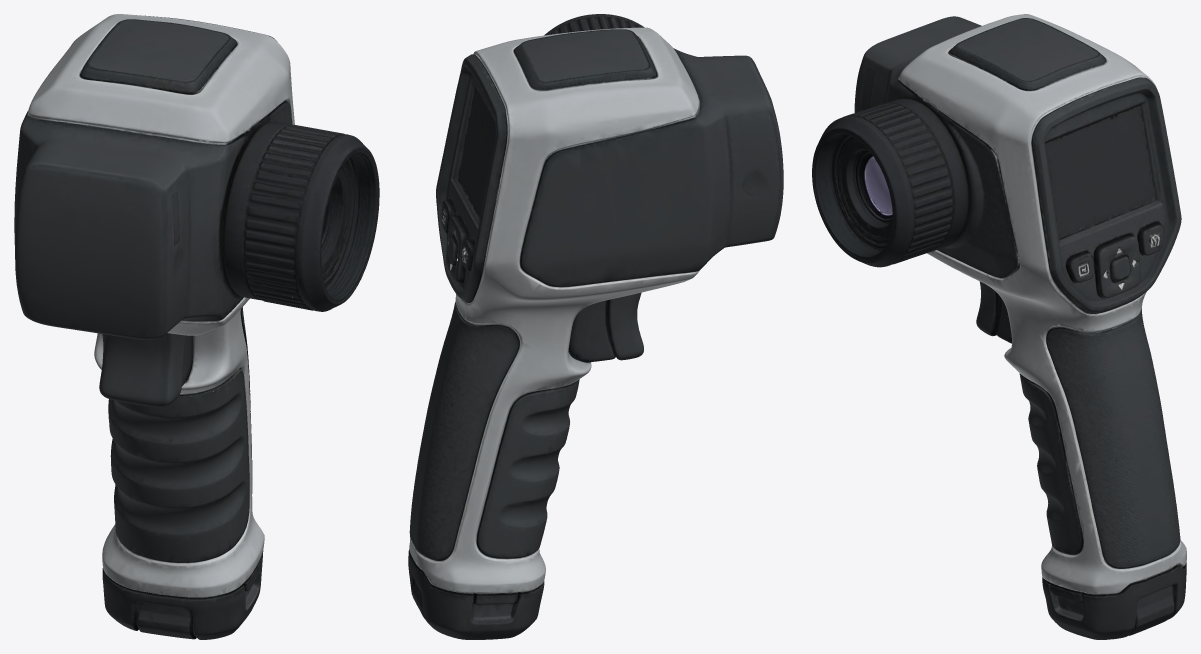
The model's file is thermal.glb.
3 views of the same model, side by side, from view 1: azimuth 30°, elevation 25°; view 2: azimuth 150°, elevation 25°; view 3: azimuth 270°, elevation 25° (orthographic). The views are drawn at different scales.
Parts seen in each view (by area): view 1: tripo_node_3118e020-3102-4611-8f45-a4cb7ac80d57; view 2: tripo_node_3118e020-3102-4611-8f45-a4cb7ac80d57; view 3: tripo_node_3118e020-3102-4611-8f45-a4cb7ac80d57.
Boxes of the visible parts, x1,y1,x2,y2 form: tripo_node_3118e020-3102-4611-8f45-a4cb7ac80d57: (14, 14, 379, 639); tripo_node_3118e020-3102-4611-8f45-a4cb7ac80d57: (408, 14, 783, 639); tripo_node_3118e020-3102-4611-8f45-a4cb7ac80d57: (812, 14, 1186, 639).
Size of the model in its own units: 18002 by 32092 by 20042.
1 material, 1 textured.
